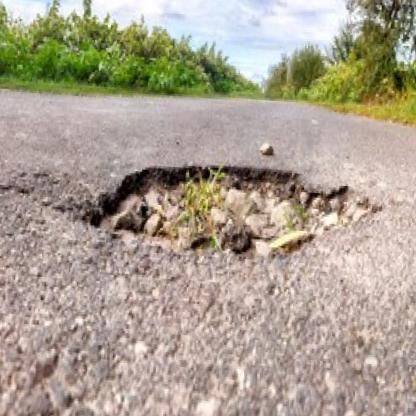pothole: (77, 149, 392, 271)
